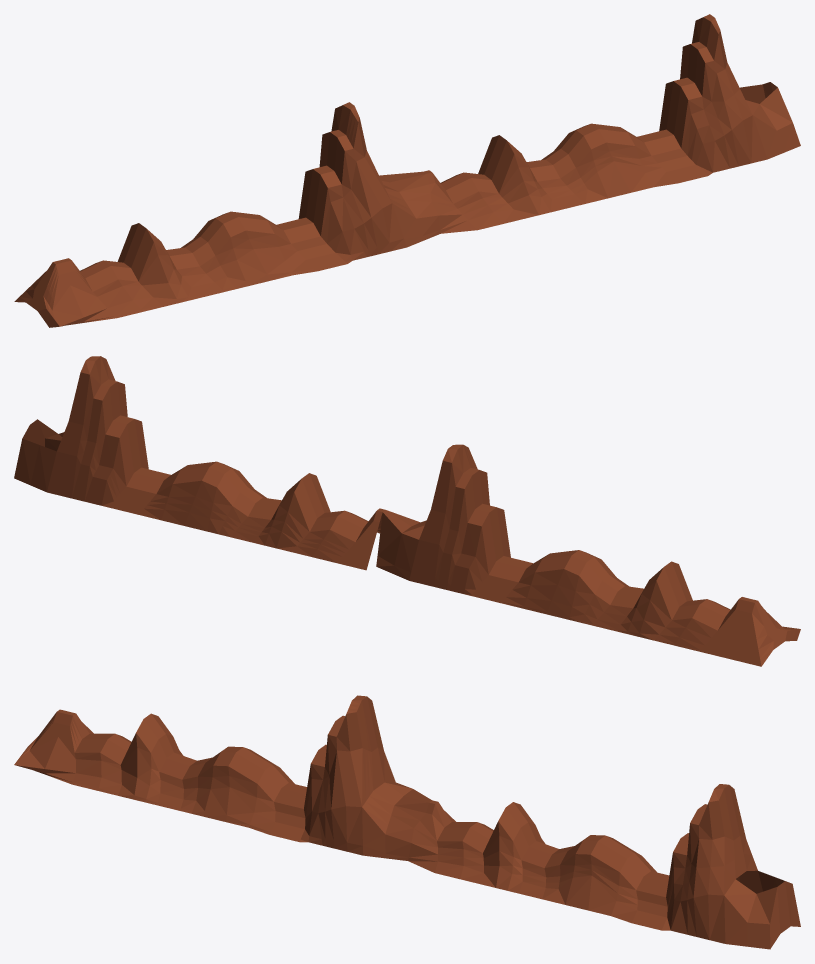
Rendered from montaña.dae.
The picture shows the model from 3 angles, top to bottom: view 1: azimuth 30°, elevation 25°; view 2: azimuth 150°, elevation 25°; view 3: azimuth 330°, elevation 25°; orthographic projection.
Parts seen in each view (by area): view 1: Cube.001; view 2: Cube.001; view 3: Cube.001.
Boxes of the visible parts, left/top/right/bottom form: Cube.001: left=14, top=14, right=800, bottom=327; Cube.001: left=14, top=356, right=800, bottom=666; Cube.001: left=14, top=695, right=800, bottom=949.
Bounding box in the file's own units: 50.45 × 5.19 × 8.32.
1 material, 1 textured.
